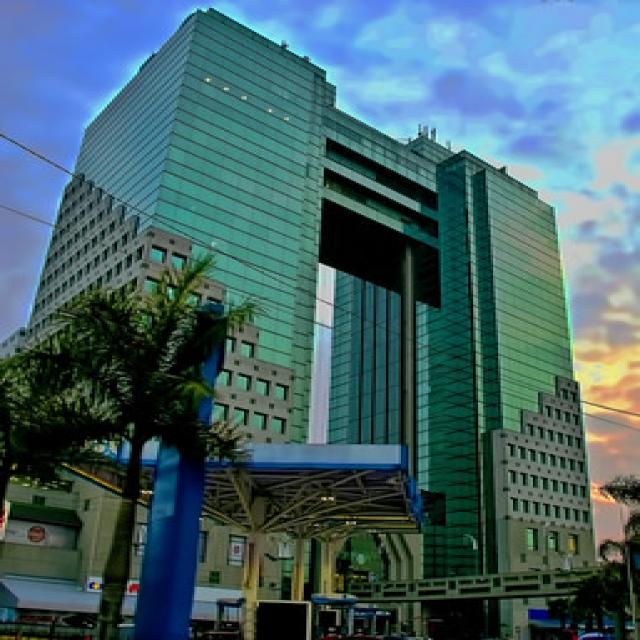Normal_building: (15, 3, 615, 640)
